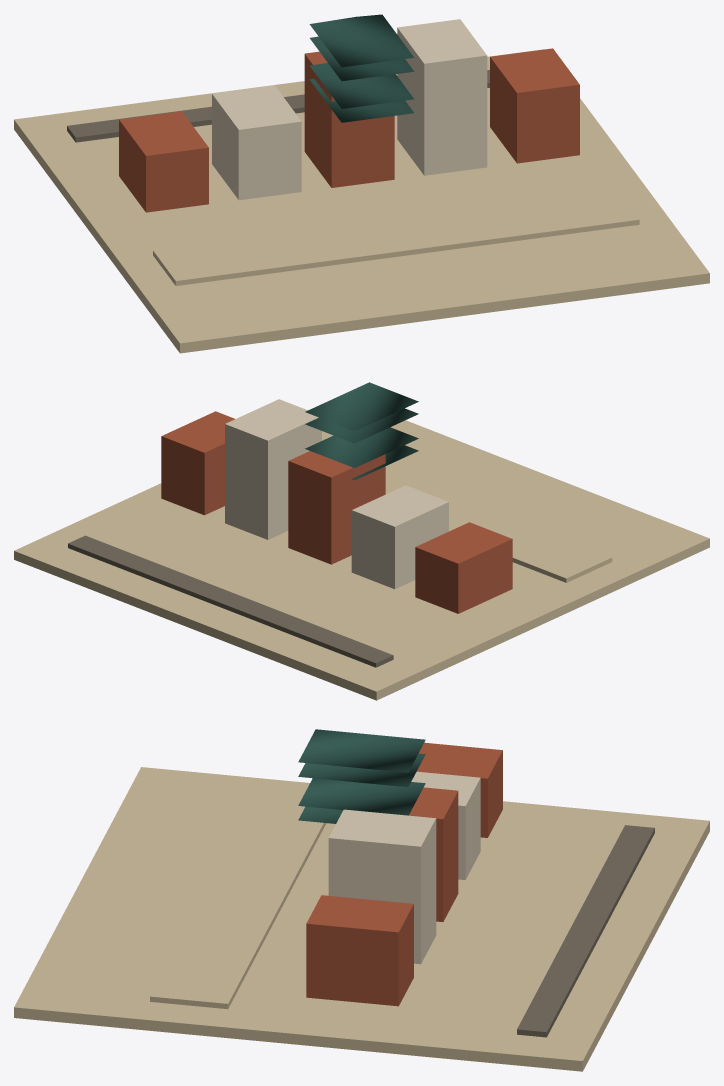
File: model-medium.glb
3 renders of one model, top to bottom at view 1: azimuth 30°, elevation 25°; view 2: azimuth 150°, elevation 25°; view 3: azimuth 270°, elevation 25°, orthographic. The views are drawn at different scales.
Visible parts, largest first — view 1: context_site_plinth, street_public_axis, street_facade_3, street_facade_4, street_facade_1, street_facade_0, street_facade_2, street_roof_3, street_roof_1, front_scale_strip, street_roof_2, street_roof_0; view 2: context_site_plinth, street_facade_3, street_facade_2, street_facade_1, street_facade_0, front_scale_strip, street_public_axis, street_facade_4, street_roof_3, street_roof_1, street_roof_2; view 3: context_site_plinth, street_public_axis, street_facade_4, street_facade_3, front_scale_strip, street_roof_3, street_facade_0, street_facade_2, street_roof_1, street_facade_1, street_roof_2, street_roof_0.
Part boxes in pixels (x1,y1,x2,y2): context_site_plinth: (14, 49, 709, 353); street_public_axis: (153, 189, 639, 285); street_facade_3: (397, 19, 487, 175); street_facade_4: (490, 48, 579, 163); street_facade_1: (212, 85, 301, 200); street_facade_0: (119, 111, 208, 212); street_facade_2: (304, 51, 394, 187); street_roof_3: (309, 14, 414, 67); street_roof_1: (310, 62, 413, 108); front_scale_strip: (67, 70, 489, 142); street_roof_2: (310, 30, 413, 81); street_roof_0: (309, 79, 413, 122); context_site_plinth: (14, 420, 709, 700); street_facade_3: (225, 399, 321, 539); street_facade_2: (288, 451, 385, 564); street_facade_1: (351, 485, 448, 589); street_facade_0: (415, 522, 512, 613); front_scale_strip: (68, 535, 393, 667); street_public_axis: (385, 469, 612, 582); street_facade_4: (161, 411, 234, 515); street_roof_3: (305, 382, 418, 431); street_roof_1: (305, 427, 418, 467); street_roof_2: (305, 408, 418, 443); context_site_plinth: (14, 767, 709, 1071); street_public_axis: (150, 786, 326, 1009); street_facade_4: (306, 895, 413, 1006); street_facade_3: (328, 809, 436, 964); front_scale_strip: (517, 825, 654, 1037); street_roof_3: (298, 729, 425, 772); street_facade_0: (417, 742, 502, 837); street_facade_2: (409, 787, 458, 921); street_roof_1: (298, 778, 425, 815); street_facade_1: (411, 771, 480, 879); street_roof_2: (298, 753, 425, 787); street_roof_0: (298, 806, 343, 823).
Bounding box in the file's own units: 9.55 × 2.89 × 9.55.
